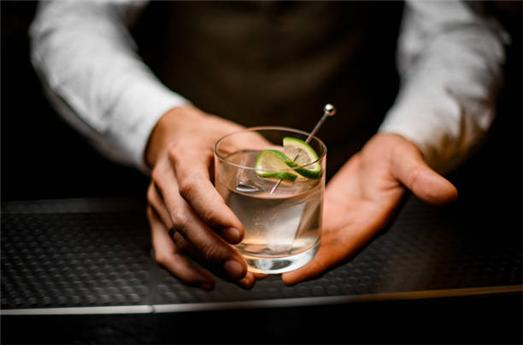alcohol: (211, 126, 326, 274)
